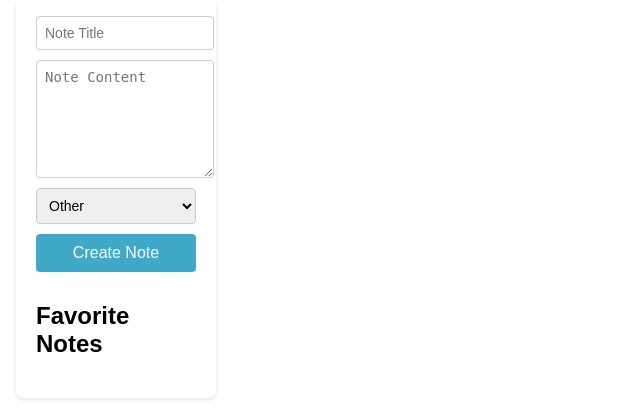
Test case: StickyNotes Component › creates a new note
Type "New Note" into the field with placeholder "Note Title" at [125, 33], box [36,16,214,50]
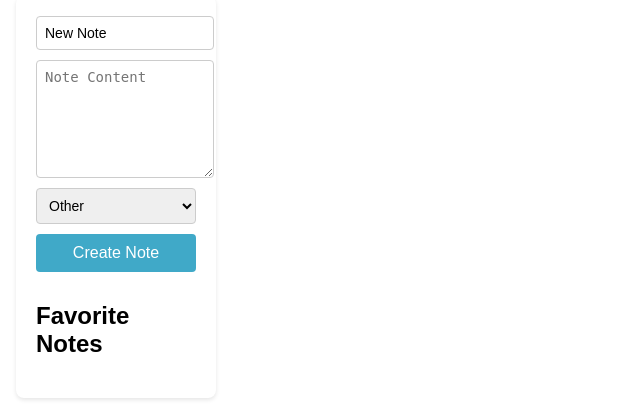
Type "Note content" into the text box with placeholder "Note Content" at [125, 119], box [36,60,214,178]
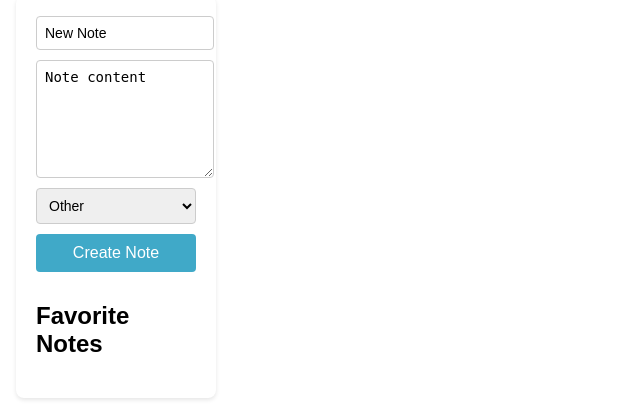
Click the button "Create Note" at [116, 253], box [36,234,196,272]
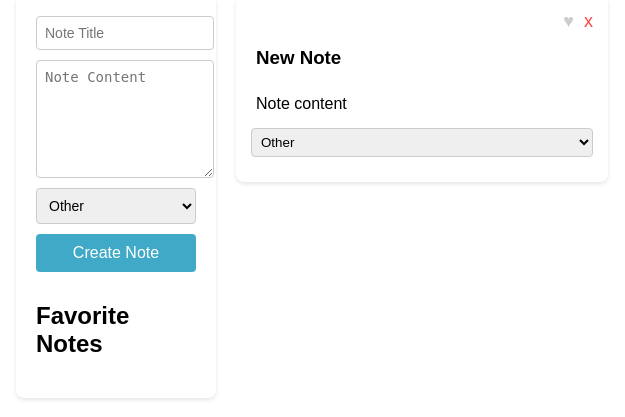
Result: the heading "New Note" is shown at [256,47,341,68]
Result: the text box "Note content" is shown at [256,95,347,112]
